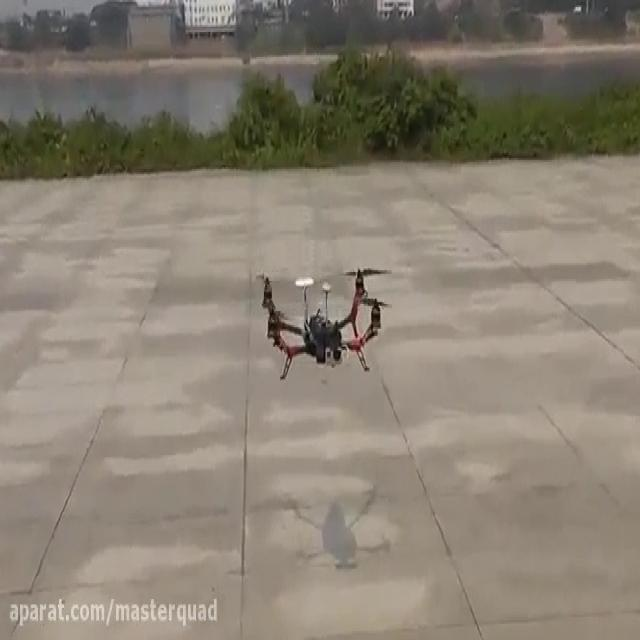drone: (251, 256, 393, 386)
